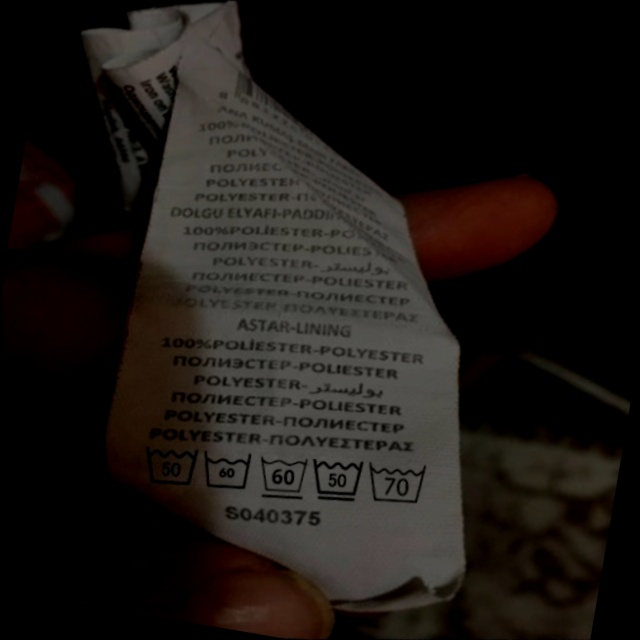50C: (128, 426, 213, 503), (299, 443, 378, 516)
60C: (248, 440, 322, 512), (191, 436, 266, 506)
70C: (358, 446, 443, 519)
